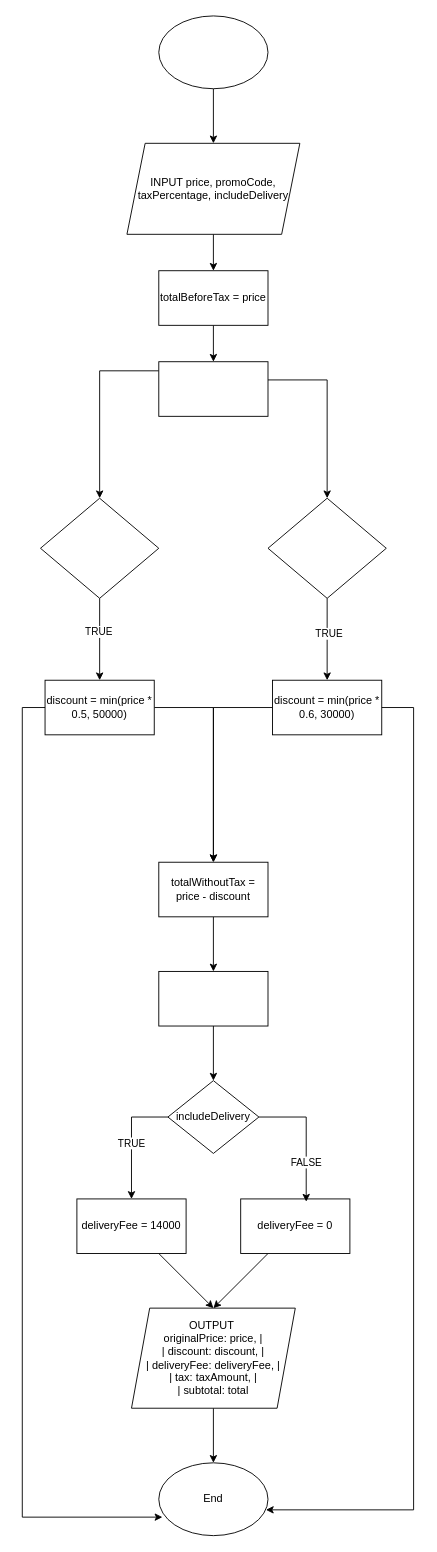
The diagram is 437 pixels wide and 1552 high, and some of its shapes have lost their labels. Here are the shapes that lost their labels. From the top down, the box of each, then its label:
(158, 15, 268, 89): Start
(158, 361, 268, 416): discount = 0
(40, 497, 159, 598): promoCode ="FAZZFOOD50"
(267, 497, 386, 598): promoCode ="DITRAKTIR60"
(158, 971, 268, 1026): taxAmount = totalBeforeTax * (taxPercentage / 100)
